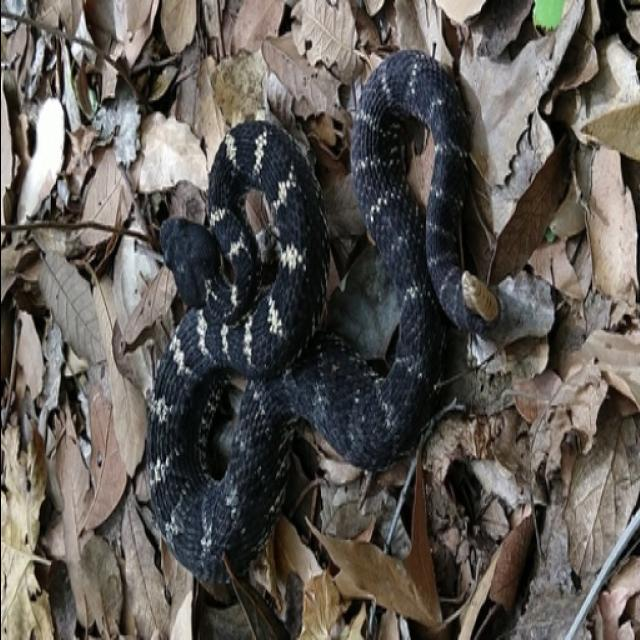snake: (88, 54, 546, 615)
